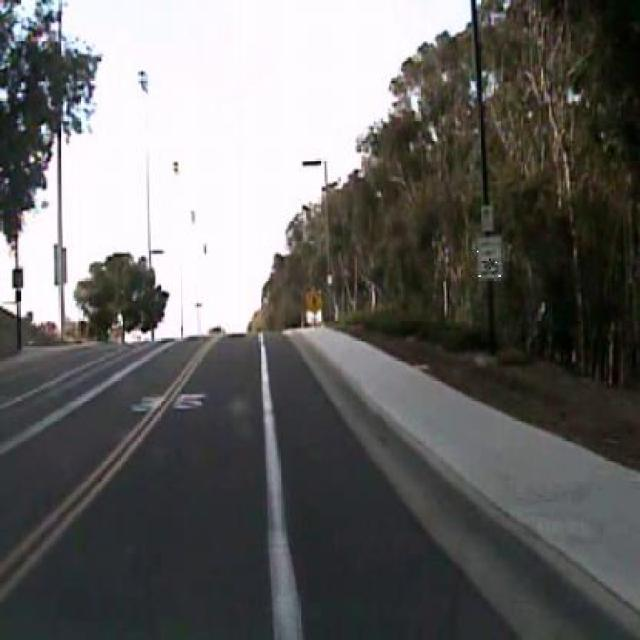speedLimit35: (477, 234, 502, 279)
